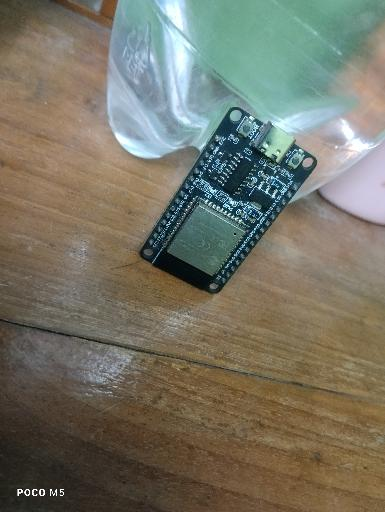Esp32: (138, 105, 319, 295)
